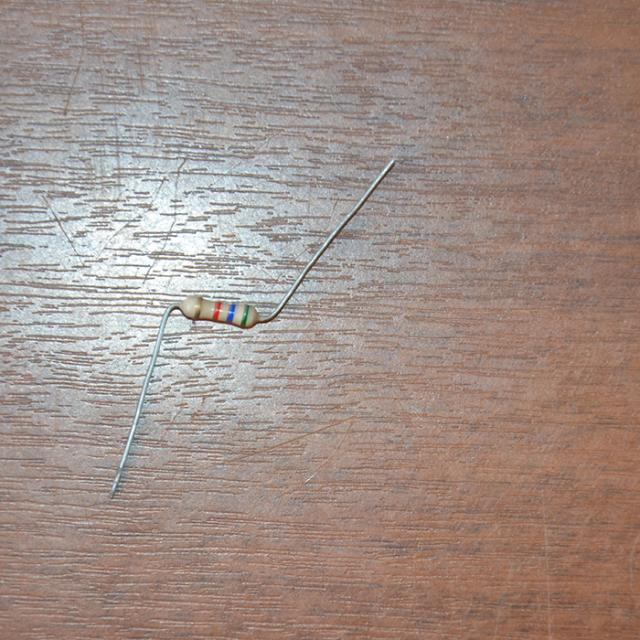blue: (228, 303, 237, 322)
gold: (194, 295, 202, 318)
green: (240, 304, 250, 325)
red: (213, 301, 221, 319)
